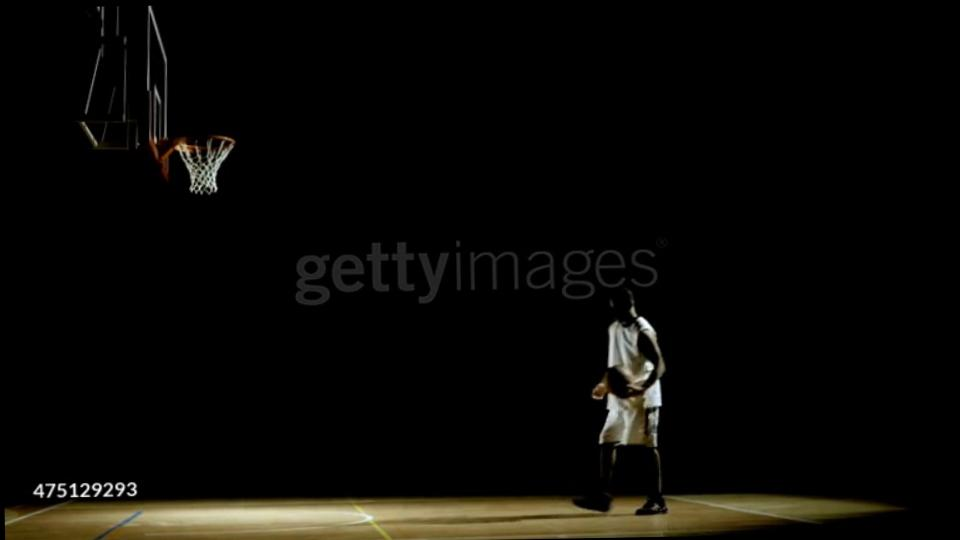hoop: (154, 132, 237, 160)
